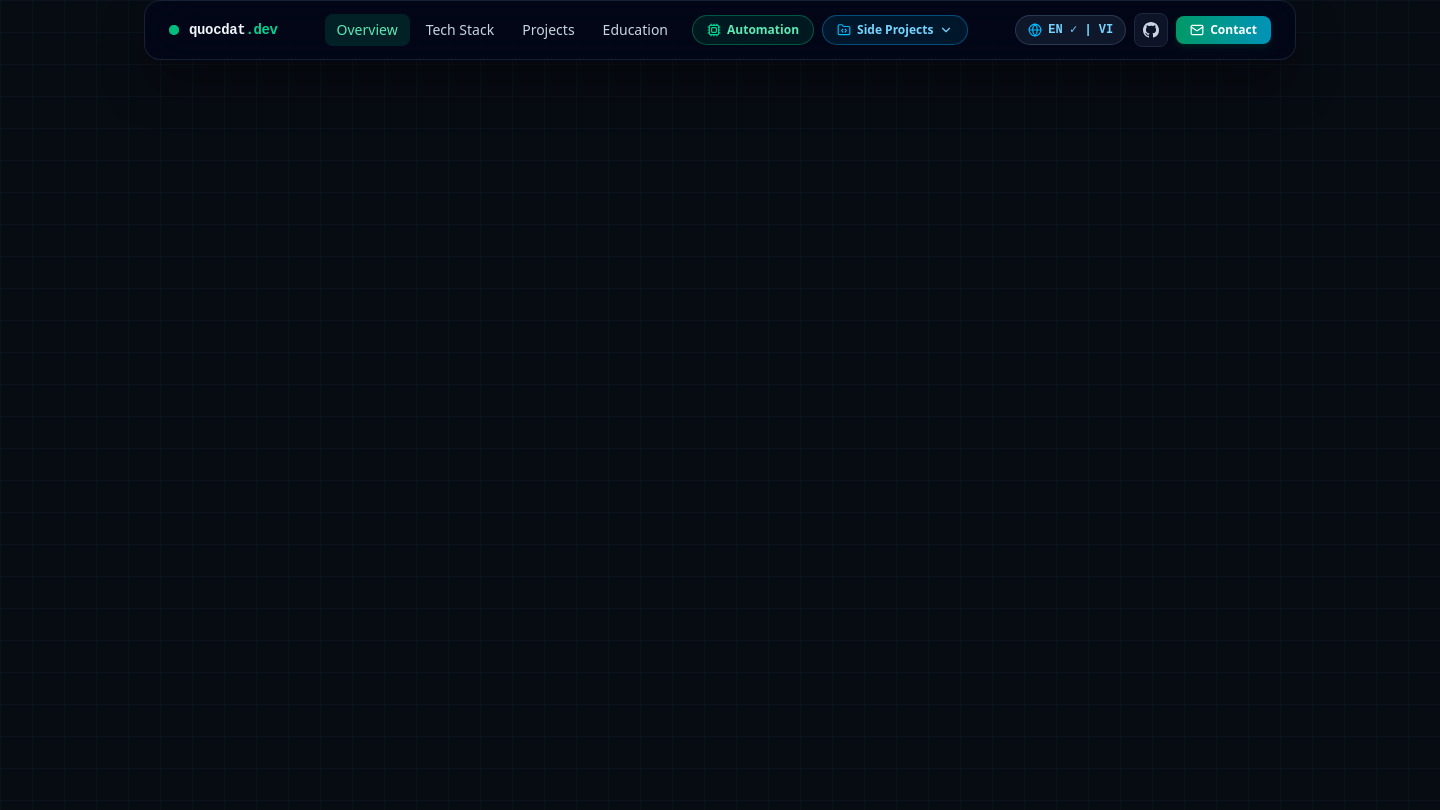
it: Navbar & Footer Components › renders Navbar with brand, /automation link, and working EN/VI switcher
Expected: the text "quocdat.dev" is shown, [189, 20, 278, 40]
Expected: the link "Automation" is shown, [692, 15, 814, 45]
Click the button "EN ✓ | VI": point(1071, 30) [1015, 15, 1126, 45]
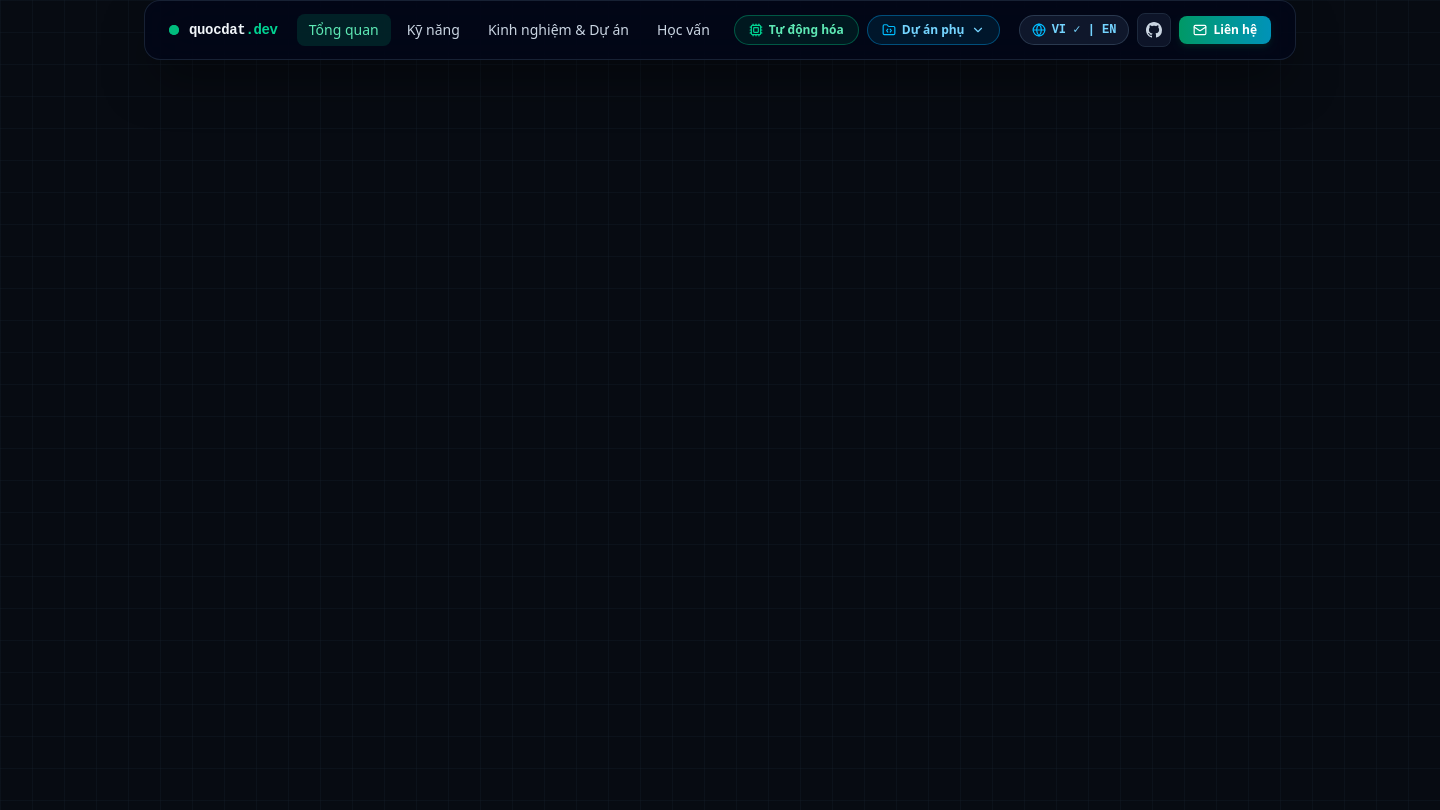
Now the button "VI ✓ | EN" is shown, box [1019, 15, 1129, 45]
